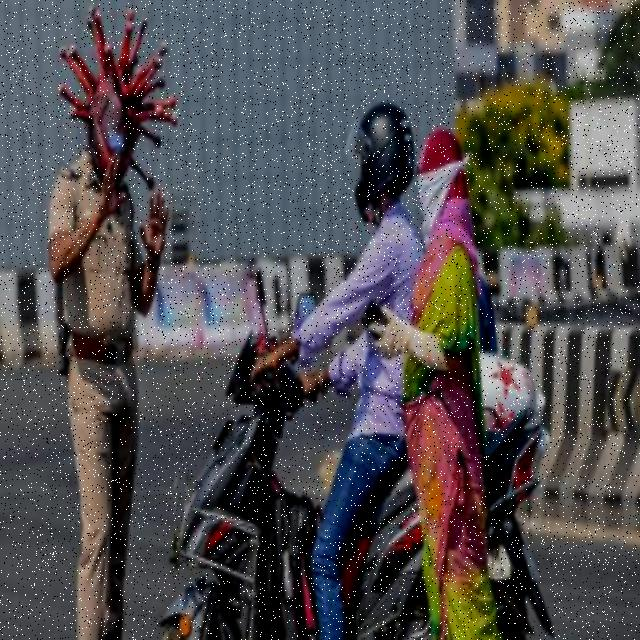not_ride_motorcycle: (48, 0, 168, 640)
not_triplets: (166, 87, 542, 640)
with-helmet: (341, 98, 415, 217)
